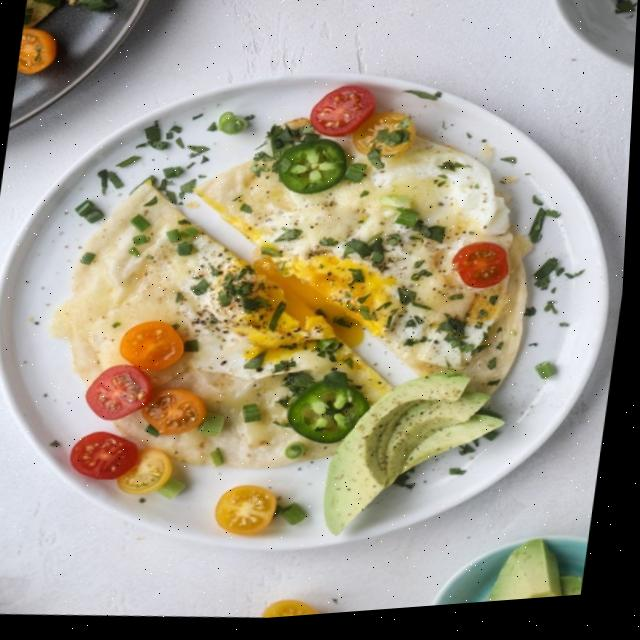Egg: (56, 185, 395, 470), (198, 144, 531, 400)
